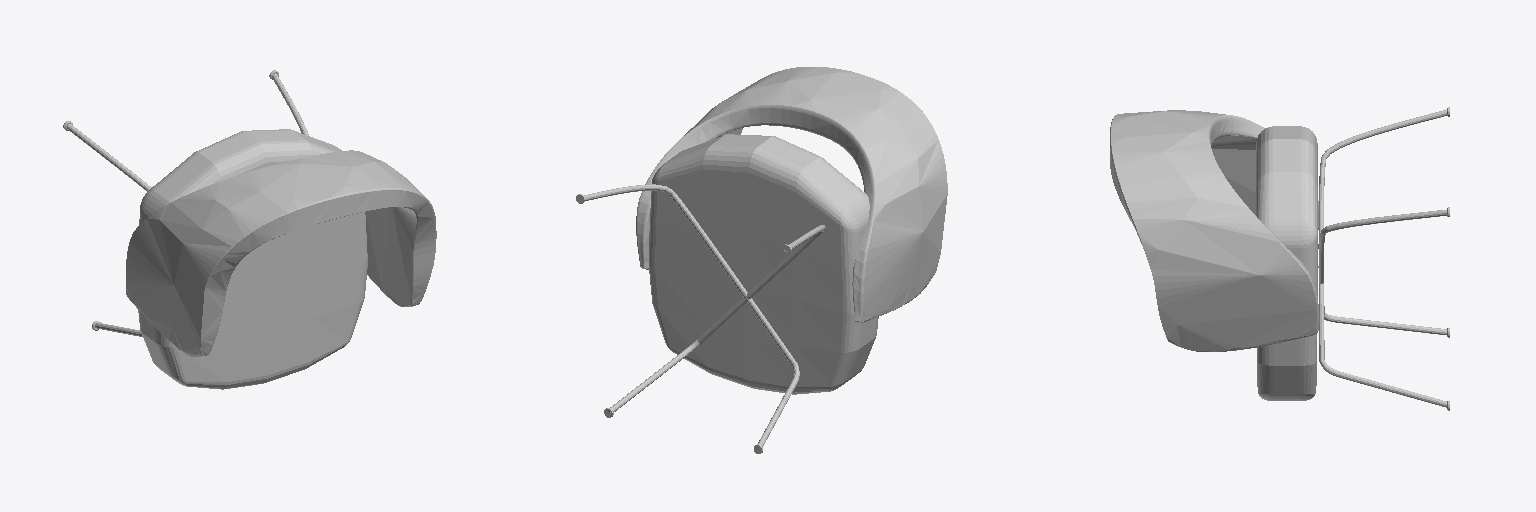
Rendered from chair_0590_QEM_50pct.obj.
3 renders of one model, left to right at view 1: azimuth 30°, elevation 25°; view 2: azimuth 150°, elevation 25°; view 3: azimuth 270°, elevation 25°, orthographic.
Bounding box in the file's own units: 0.8045 × 0.8038 × 1.